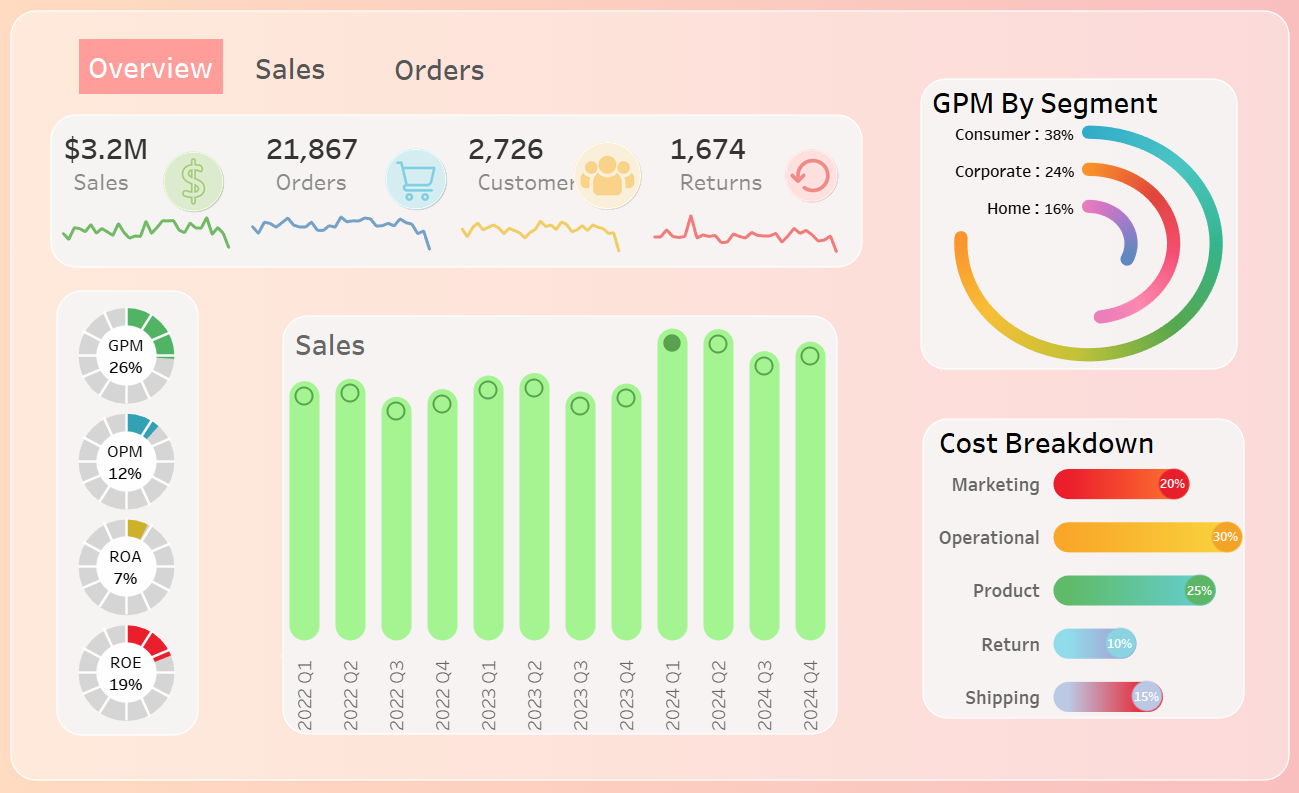

This screenshot's page, from the dashboard's own definition file:
{"tool":"tableau","page":{"name":"Overview","canvas":[1300,800],"ordinal":1},"visuals":[{"type":"image","param":"C:/Users/Samiksha/Downloads/Orange - Red Background.png","box":[0,0,1300,800]},{"type":"dashboard-object","box":[75,40,152,63]},{"type":"dashboard-object","box":[215,41,152,63]},{"type":"dashboard-object","box":[364,42,151,63]},{"type":"text","box":[928,87,265,39]},{"type":"worksheet","title":"Radial","mark":"Line","box":[941,119,294,258]},{"type":"worksheet","title":"KPI Metric","mark":"Automatic","box":[60,133,828,134]},{"type":"image","param":"C:/Users/Samiksha/Downloads/Customer Icon.png","box":[563,143,88,74]},{"type":"image","param":"C:/Users/Samiksha/Downloads/Orders Icon.png","box":[378,150,76,67]},{"type":"image","param":"C:/Users/Samiksha/Downloads/Returns Icon.png","box":[774,151,75,58]},{"type":"image","param":"C:/Users/Samiksha/Downloads/Sales Icon.png","box":[160,153,67,66]},{"type":"worksheet","title":"Sparkdash returns","mark":"Automatic","rows":["Returns"],"cols":["Order Date"],"box":[651,216,188,52]},{"type":"worksheet","title":"Sparkdash orders","mark":"Automatic","rows":["Order ID"],"cols":["Order Date"],"box":[249,217,184,63]},{"type":"worksheet","title":"Sparkdash sales","mark":"Automatic","rows":["Sales"],"cols":["Order Date"],"box":[60,218,171,56]},{"type":"worksheet","title":"Sparkdash customerid","mark":"Automatic","rows":["Customer ID"],"cols":["Order Date"],"box":[459,221,162,60]},{"type":"worksheet","title":"Sheet 7","mark":"Automatic","rows":["Metric"],"cols":["Calculation_1711367883785707526","Calculation_1711367883785719816"],"box":[66,308,121,423]},{"type":"worksheet","title":"Sales bar","mark":"Automatic","rows":["Sales"],"cols":["Order Date"],"box":[281,319,552,420]},{"type":"text","box":[291,329,100,39]},{"type":"text","box":[935,427,259,39]},{"type":"worksheet","title":"Sheet 11","mark":"Automatic","rows":["Type of Cost"],"cols":["Cost"],"box":[925,462,325,266]}]}

Visuals, with their boxes in screenshot pixels (x1, y1, x2, y2), scaled from the page's 1300x800 canvas onto the 1299x793 screenshot:
image: <box>0,0,1298,792</box>
dashboard-object: <box>75,40,227,102</box>
dashboard-object: <box>215,41,367,103</box>
dashboard-object: <box>364,42,515,104</box>
text: <box>927,86,1192,125</box>
"Radial" worksheet (Line marks): <box>940,118,1234,374</box>
"KPI Metric" worksheet: <box>60,132,887,265</box>
image: <box>563,142,650,215</box>
image: <box>378,149,454,215</box>
image: <box>773,150,848,207</box>
image: <box>160,152,227,217</box>
"Sparkdash returns" worksheet: <box>650,214,838,266</box>
"Sparkdash orders" worksheet: <box>249,215,433,278</box>
"Sparkdash sales" worksheet: <box>60,216,231,272</box>
"Sparkdash customerid" worksheet: <box>459,219,621,279</box>
"Sheet 7" worksheet: <box>66,305,187,725</box>
"Sales bar" worksheet: <box>281,316,832,733</box>
text: <box>291,326,391,365</box>
text: <box>934,423,1193,462</box>
"Sheet 11" worksheet: <box>924,458,1249,722</box>
